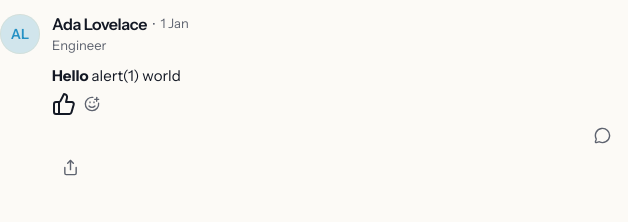
Scenario: PostCard › share › copies the post link and confirms it
What coordinates should you click on to do the following:
click the button named "copy link to post"
I would click on:
 (70, 168)
Its box is [52,152,89,184].
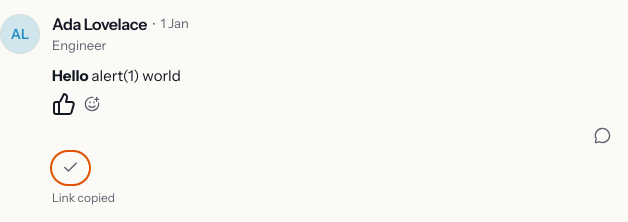
Expected: the text "Link copied" is shown, [52,190,115,205]
